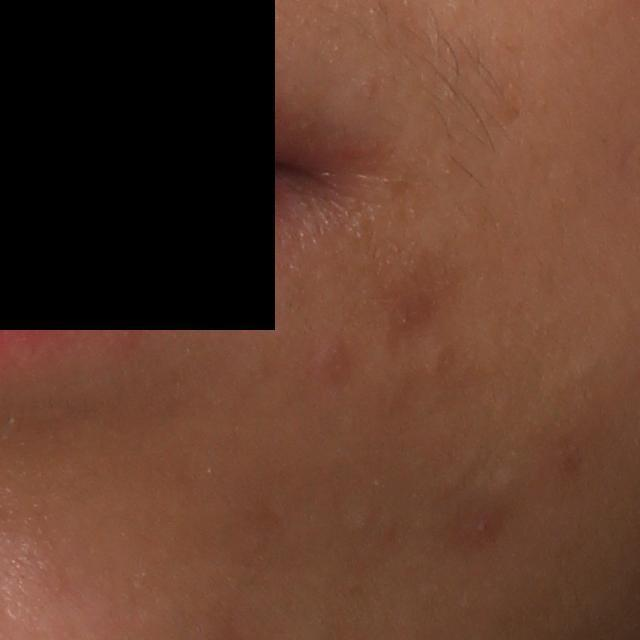papule: (313, 342, 347, 382)
